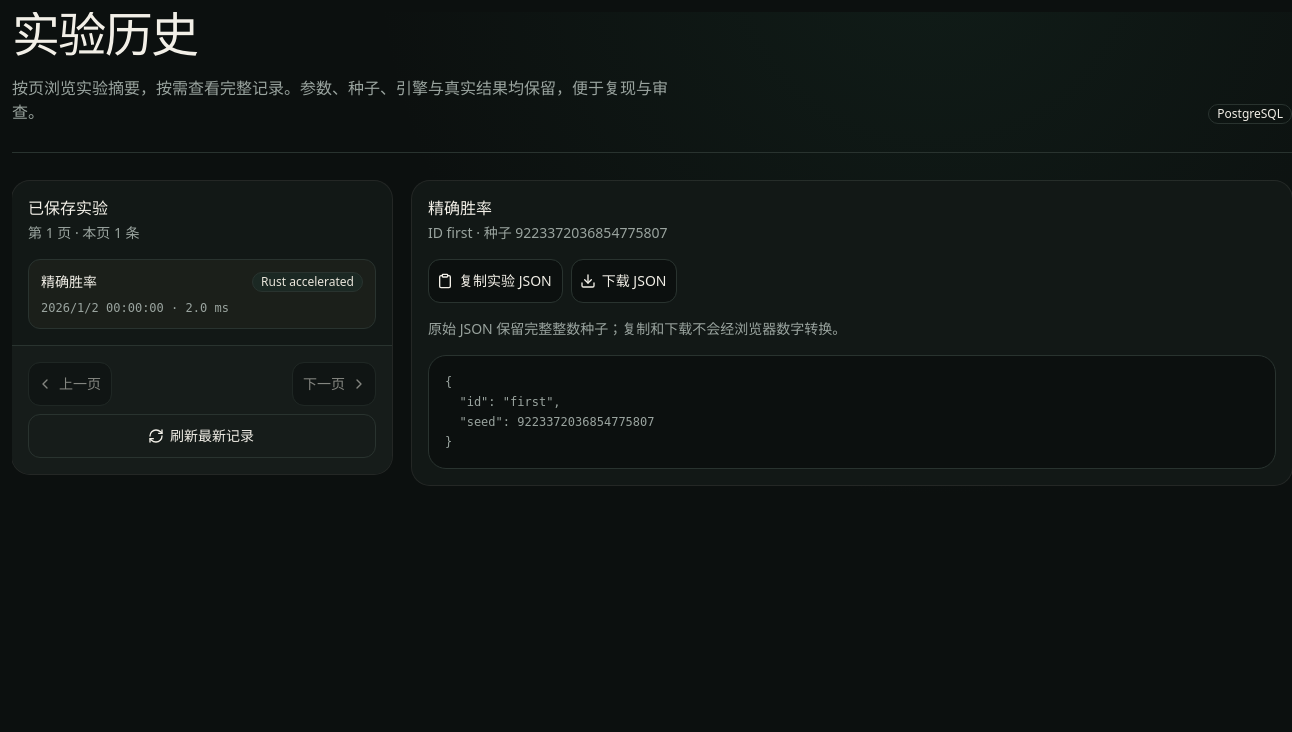
it: experiment ledger › localizes record names, pagination, exports, and feedback into Chinese
The image size is (1292, 732).
Check: the text "第 1 页 · 本页 1 条" is shown, box [28,223,140,242]
Check: the text named "完整实验 JSON" is shown, box [428,355,1276,469]
Step 1. Click the button "复制实验 JSON" → (495,281), box [428,259,563,303]
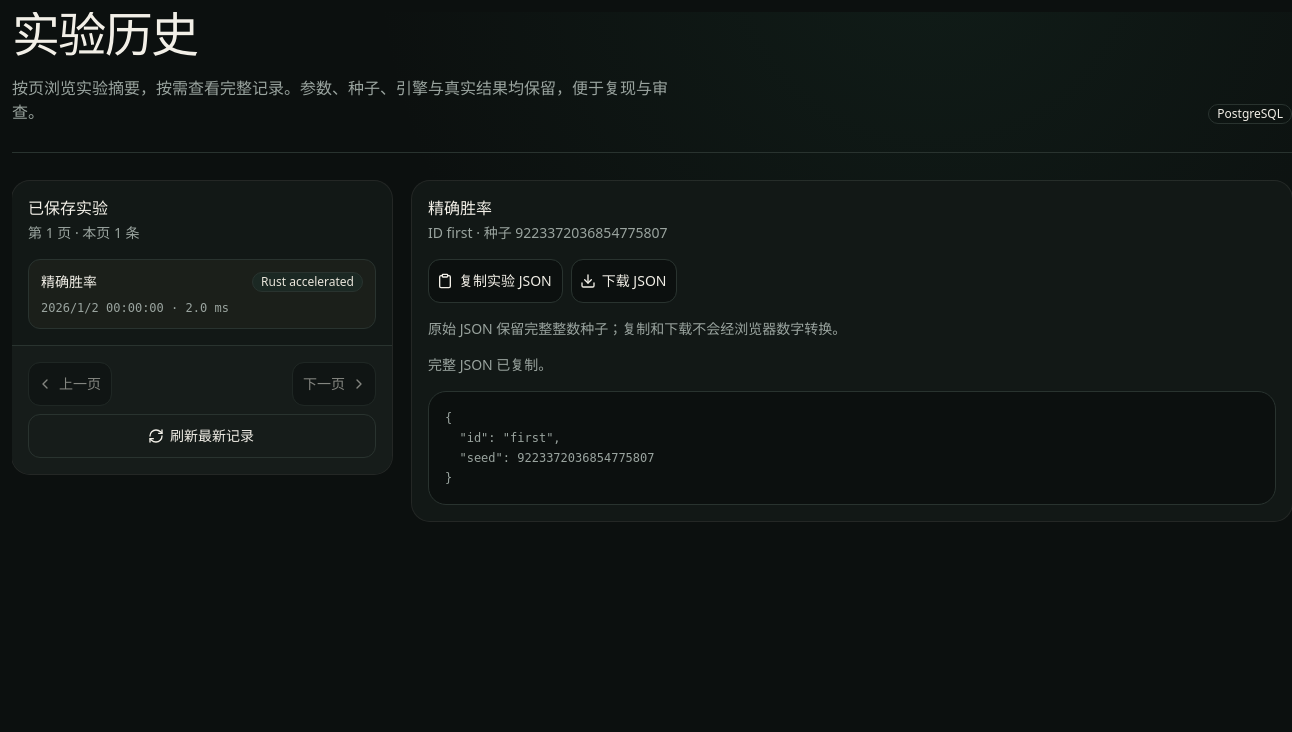
Check: the button "下载 JSON" is shown, box [571,259,677,303]
Check: the text "完整 JSON 已复制。" is shown, box [428,355,552,374]
